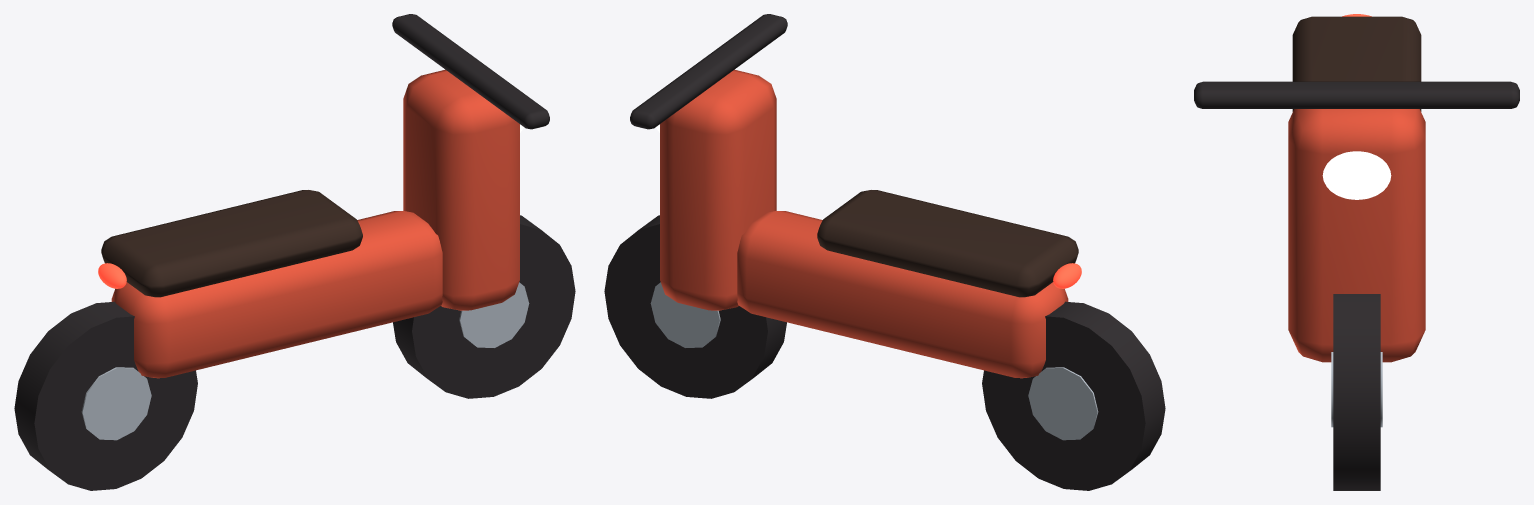
File: motorbike.glb
3 renders of one model, left to right at view 1: azimuth 30°, elevation 25°; view 2: azimuth 150°, elevation 25°; view 3: azimuth 270°, elevation 25°, orthographic. The views are drawn at different scales.
Visible parts, largest first — view 1: Frame, Front, Wheel, Seat, Wheel.001, Bar, Hub, Hub.001; view 2: Frame, Front, Wheel, Seat, Wheel.001, Bar, Hub, Hub.001; view 3: Front, Wheel.001, Bar, Seat, Light, Hub.001.
Boxes of the visible parts, x1,y1,x2,y2 form: Frame: [111, 211, 442, 378]; Front: [403, 69, 519, 310]; Wheel: [14, 301, 197, 490]; Seat: [101, 190, 362, 297]; Wheel.001: [393, 215, 575, 398]; Bar: [392, 14, 549, 129]; Hub: [81, 367, 151, 440]; Hub.001: [459, 282, 529, 347]; Frame: [737, 211, 1068, 378]; Front: [660, 69, 776, 310]; Wheel: [982, 301, 1165, 490]; Seat: [817, 190, 1078, 297]; Wheel.001: [604, 215, 786, 398]; Bar: [630, 14, 787, 129]; Hub: [1028, 367, 1098, 440]; Hub.001: [650, 282, 720, 347]; Front: [1288, 109, 1425, 362]; Wheel.001: [1333, 294, 1380, 490]; Bar: [1194, 81, 1519, 108]; Seat: [1292, 16, 1421, 111]; Light: [1322, 151, 1391, 199]; Hub.001: [1331, 352, 1382, 427].
Size of the model in its own units: 1.72 by 1 by 0.76.
